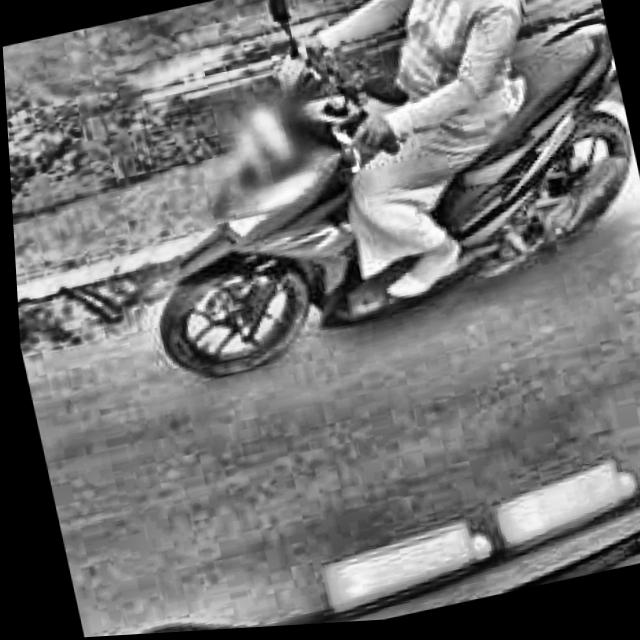motorcycle: (87, 0, 640, 392)
